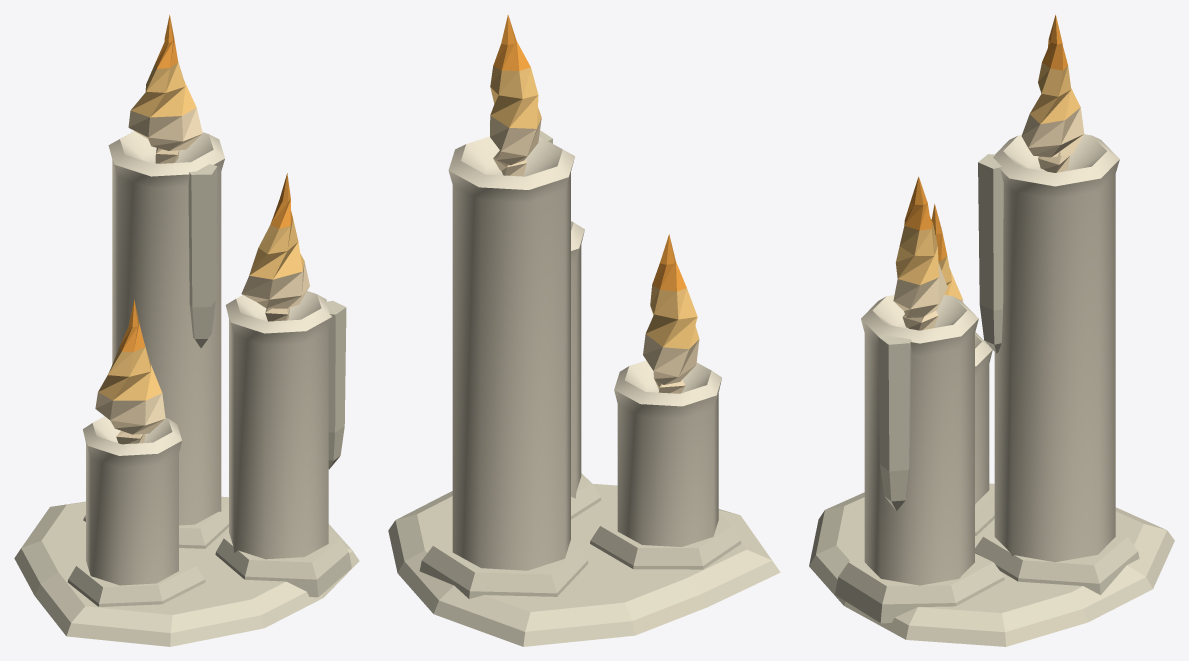
Rendered from SM_LPD_Light_CandleTriple_01.fbx.
The picture shows the model from 3 angles, left to right: view 1: azimuth 30°, elevation 25°; view 2: azimuth 150°, elevation 25°; view 3: azimuth 270°, elevation 25°; orthographic projection. The views are drawn at different scales.
Visible parts, largest first — view 1: SM_LPD_Light_CandleTriple_01; view 2: SM_LPD_Light_CandleTriple_01; view 3: SM_LPD_Light_CandleTriple_01.
Boxes of the visible parts, x1,y1,x2,y2 form: SM_LPD_Light_CandleTriple_01: (14,14,359,646); SM_LPD_Light_CandleTriple_01: (388,14,780,646); SM_LPD_Light_CandleTriple_01: (809,14,1174,646).
Bounding box in the file's own units: 0.2161 × 0.349 × 0.2056.
